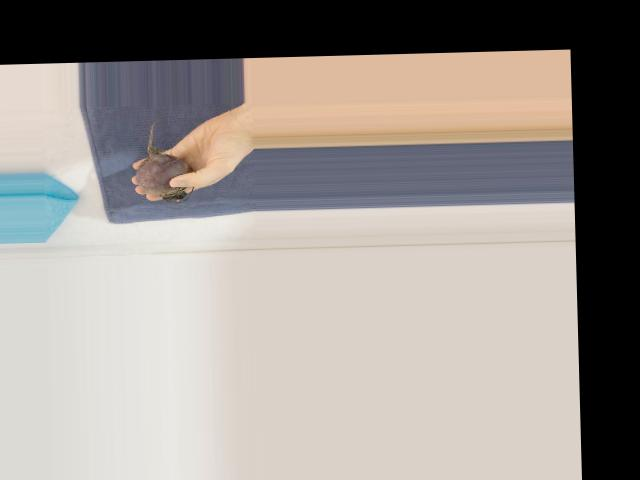beet: (134, 120, 194, 203)
